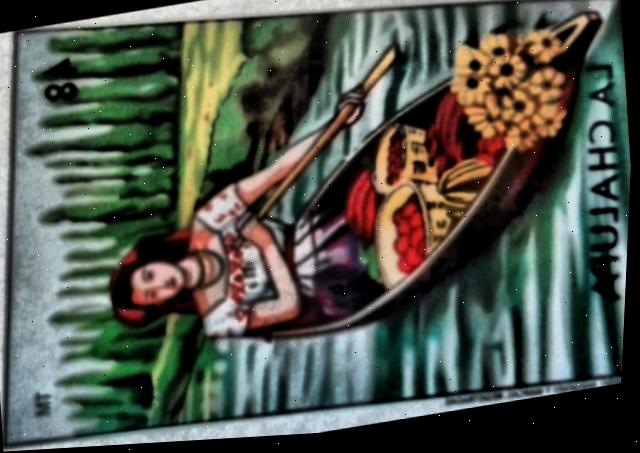La Chalupa: (7, 5, 631, 447)
